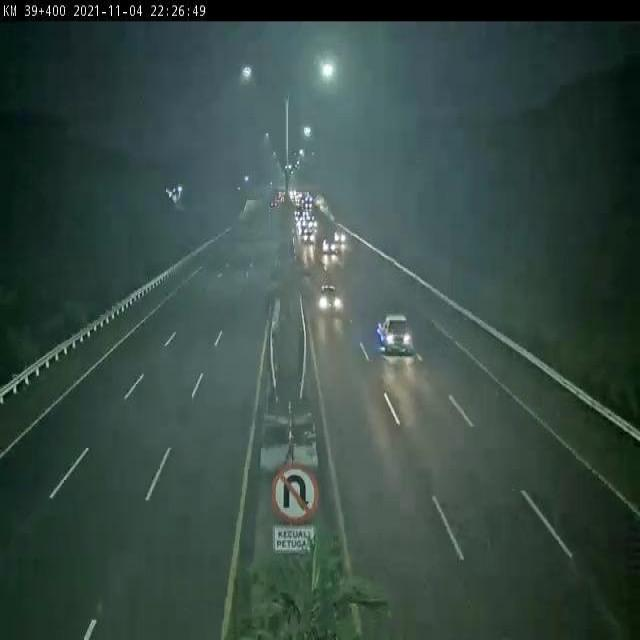car: (314, 280, 351, 316)
truck-s-: (371, 305, 422, 364)
